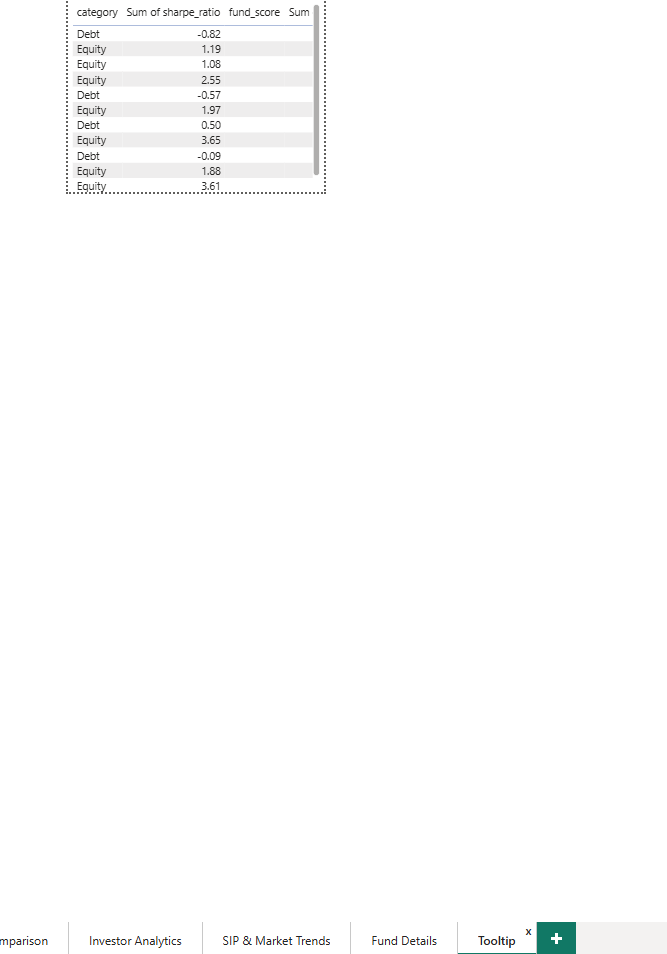

The dashboard page shown, as its layout file describes it:
{"tool":"powerbi","page":{"name":"Tooltip","canvas":[320,240],"ordinal":6},"visuals":[{"type":"cardVisual","fields":{"Rows":["01_fund_master_clean.scheme_name"]},"box":[0,0,320,240],"z":0},{"type":"tableEx","fields":{"Values":["01_fund_master_clean.category","Sum(sharpe_ratio.sharpe_ratio)","fund_scorecard.fund_score","Sum(alpha_beta.beta)","Sum(alpha_beta.alpha)","Sum(cagr_table.cagr_percent)","01_fund_master_clean.fund_house"]},"box":[0,0,320,300],"z":1}]}

Visuals, with their boxes on the page's 320x240 design canvas (x1, y1, x2, y2). These are canvas units, not pixel positions in the 667x954 screenshot, which may show the page scaled, cropped or inside an application window:
cardVisual - 01_fund_master_clean.scheme_name: Rect(0, 0, 320, 240)
tableEx - 01_fund_master_clean.category x Sum(sharpe_ratio.sharpe_ratio): Rect(0, 0, 320, 300)
